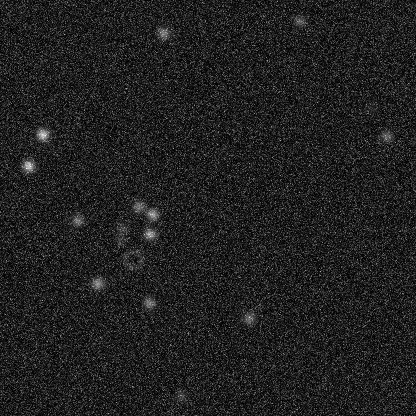Ring: (121, 247, 145, 271)
Spot: (113, 231, 129, 247), (291, 13, 307, 29), (240, 310, 256, 326), (173, 387, 189, 403), (155, 25, 171, 41), (141, 226, 157, 242), (89, 275, 105, 291), (34, 126, 50, 142), (378, 127, 394, 143), (144, 206, 160, 222), (69, 212, 85, 228), (362, 100, 378, 116), (140, 294, 156, 310), (114, 220, 130, 236), (20, 157, 36, 173), (130, 198, 146, 214)
